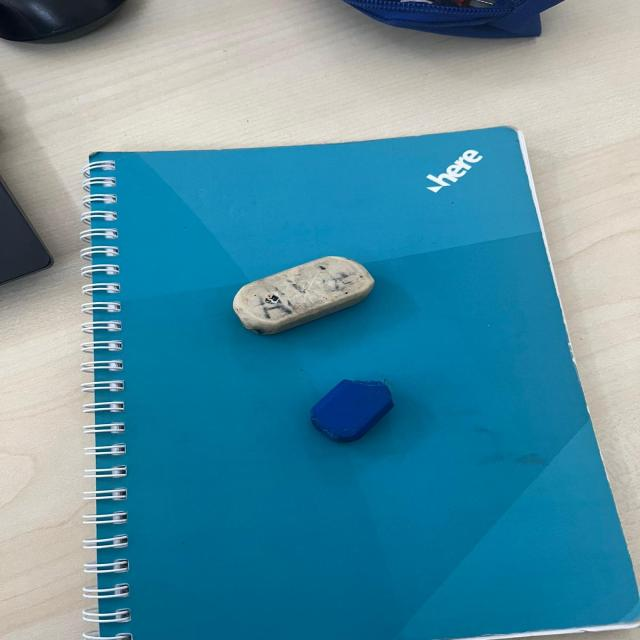eraser: (212, 250, 387, 344), (285, 367, 411, 445)
